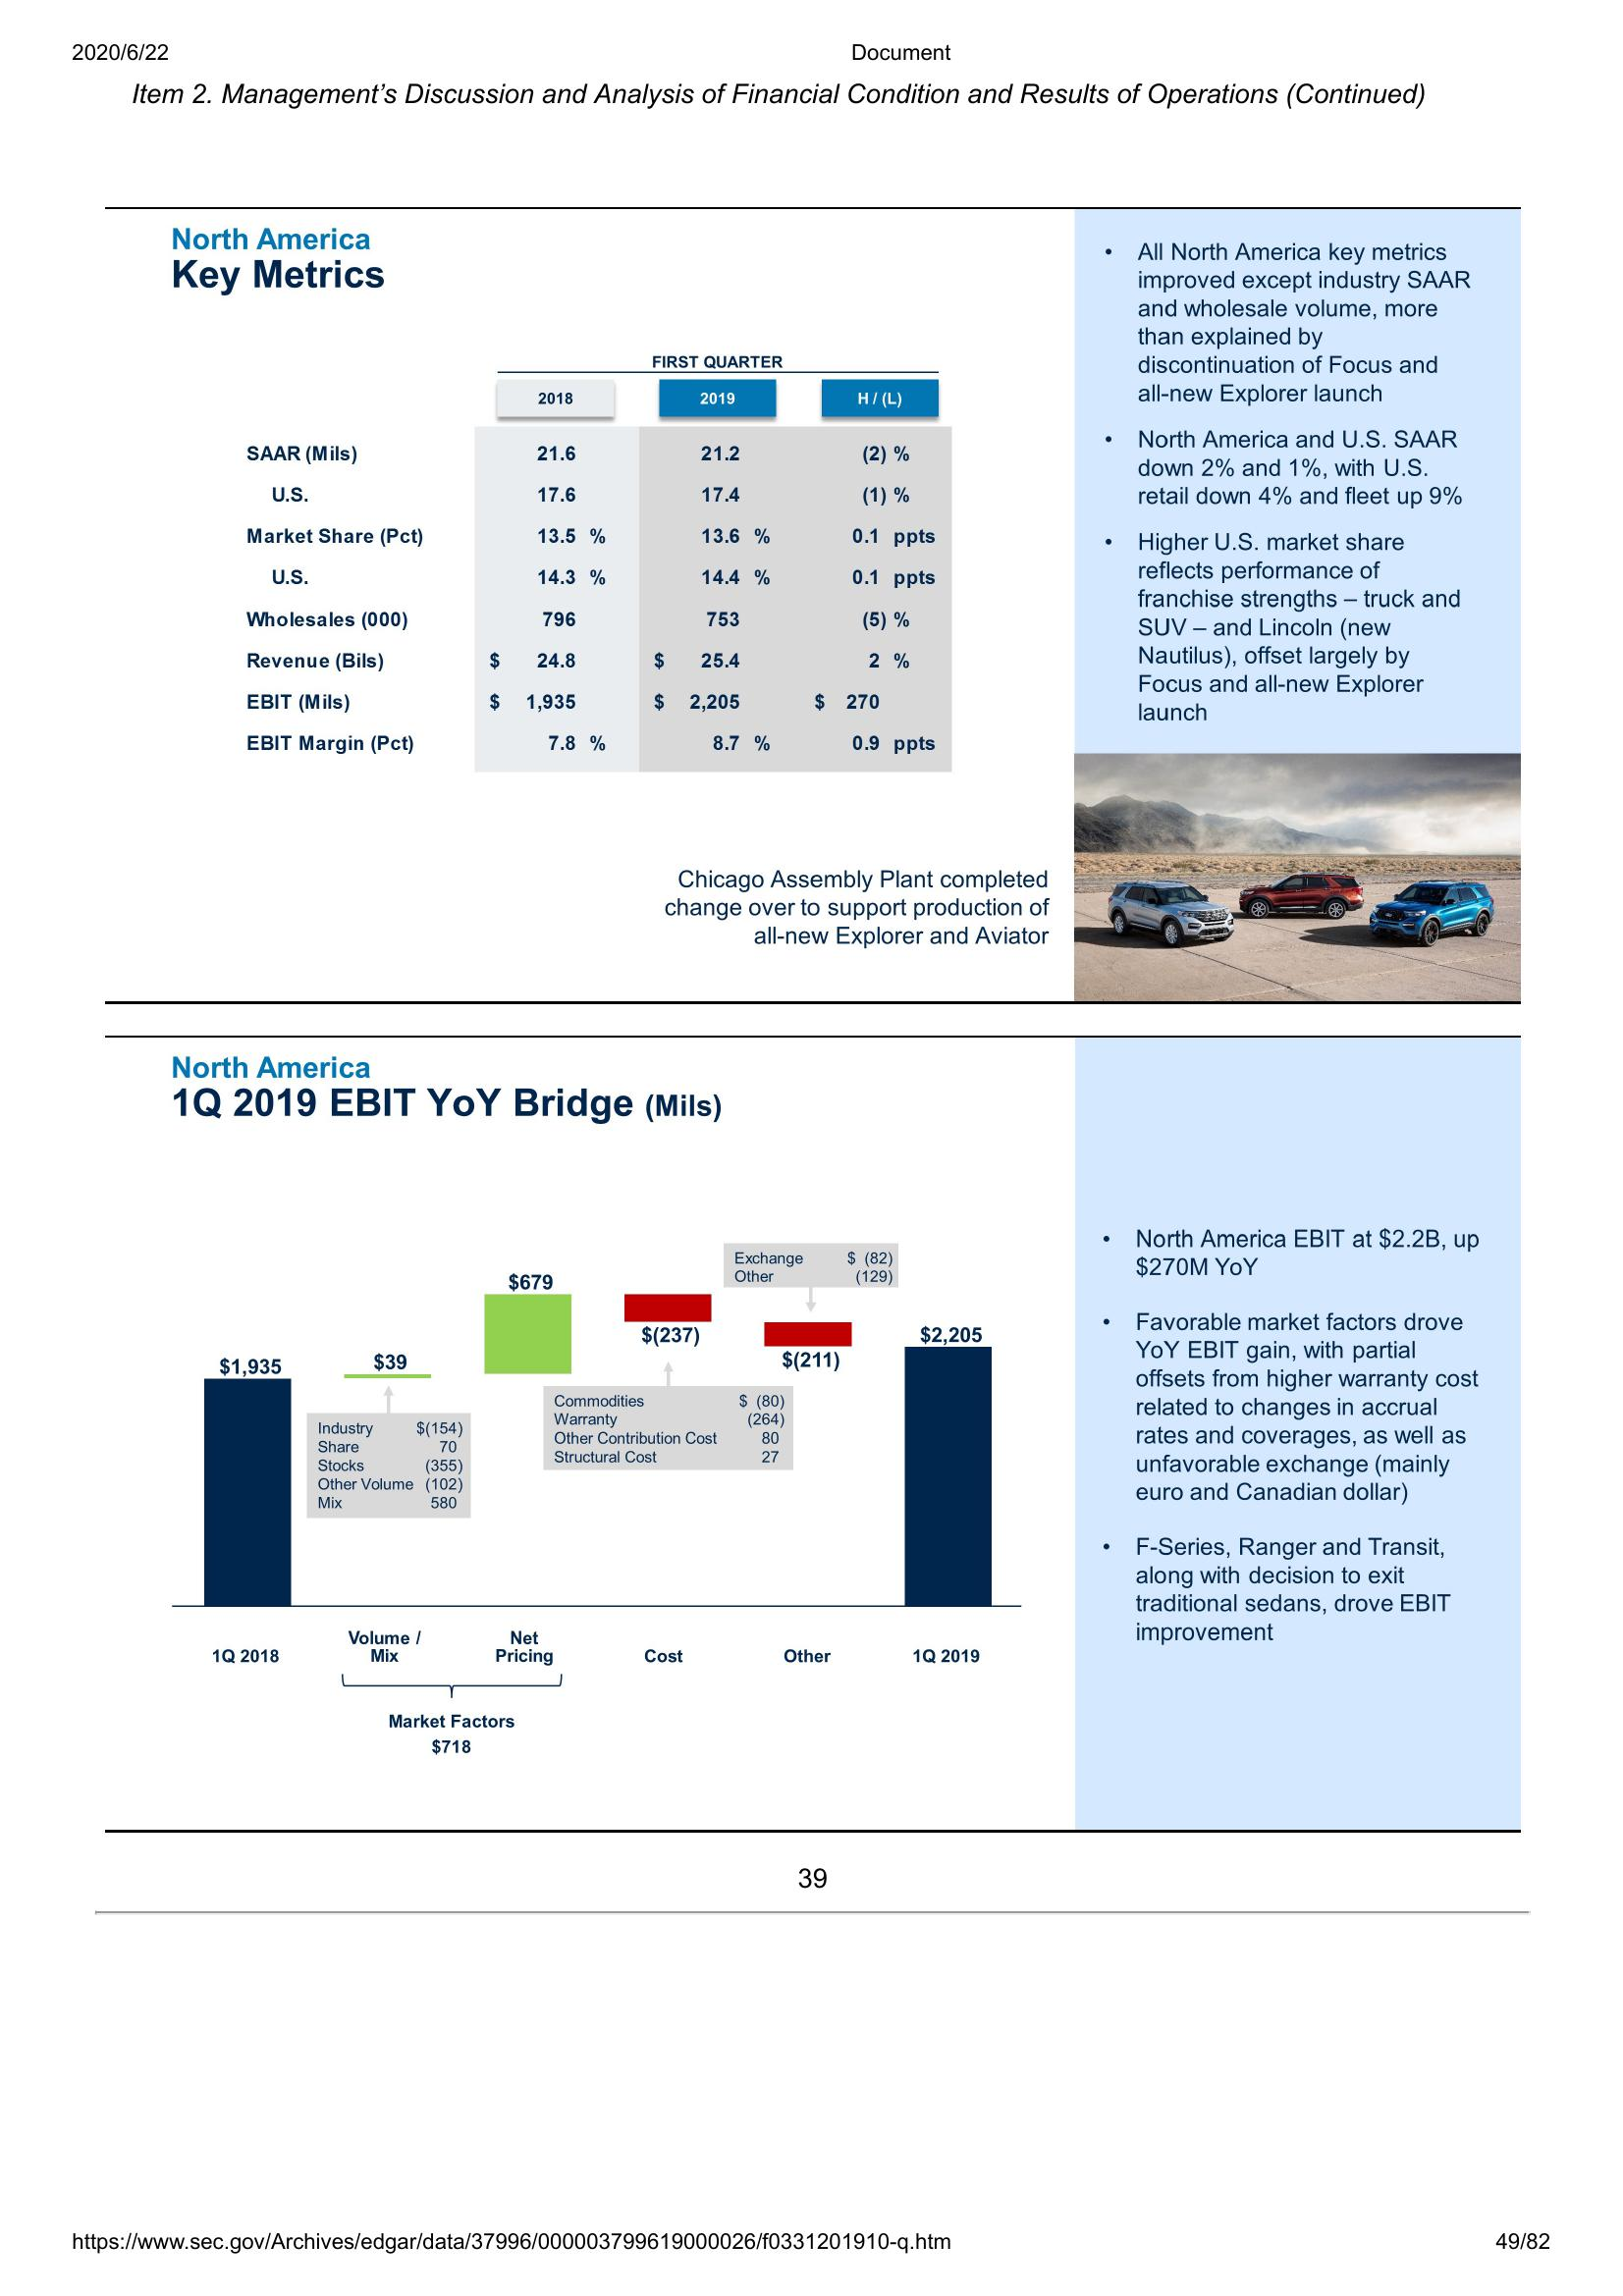table: (228, 339, 956, 781)
